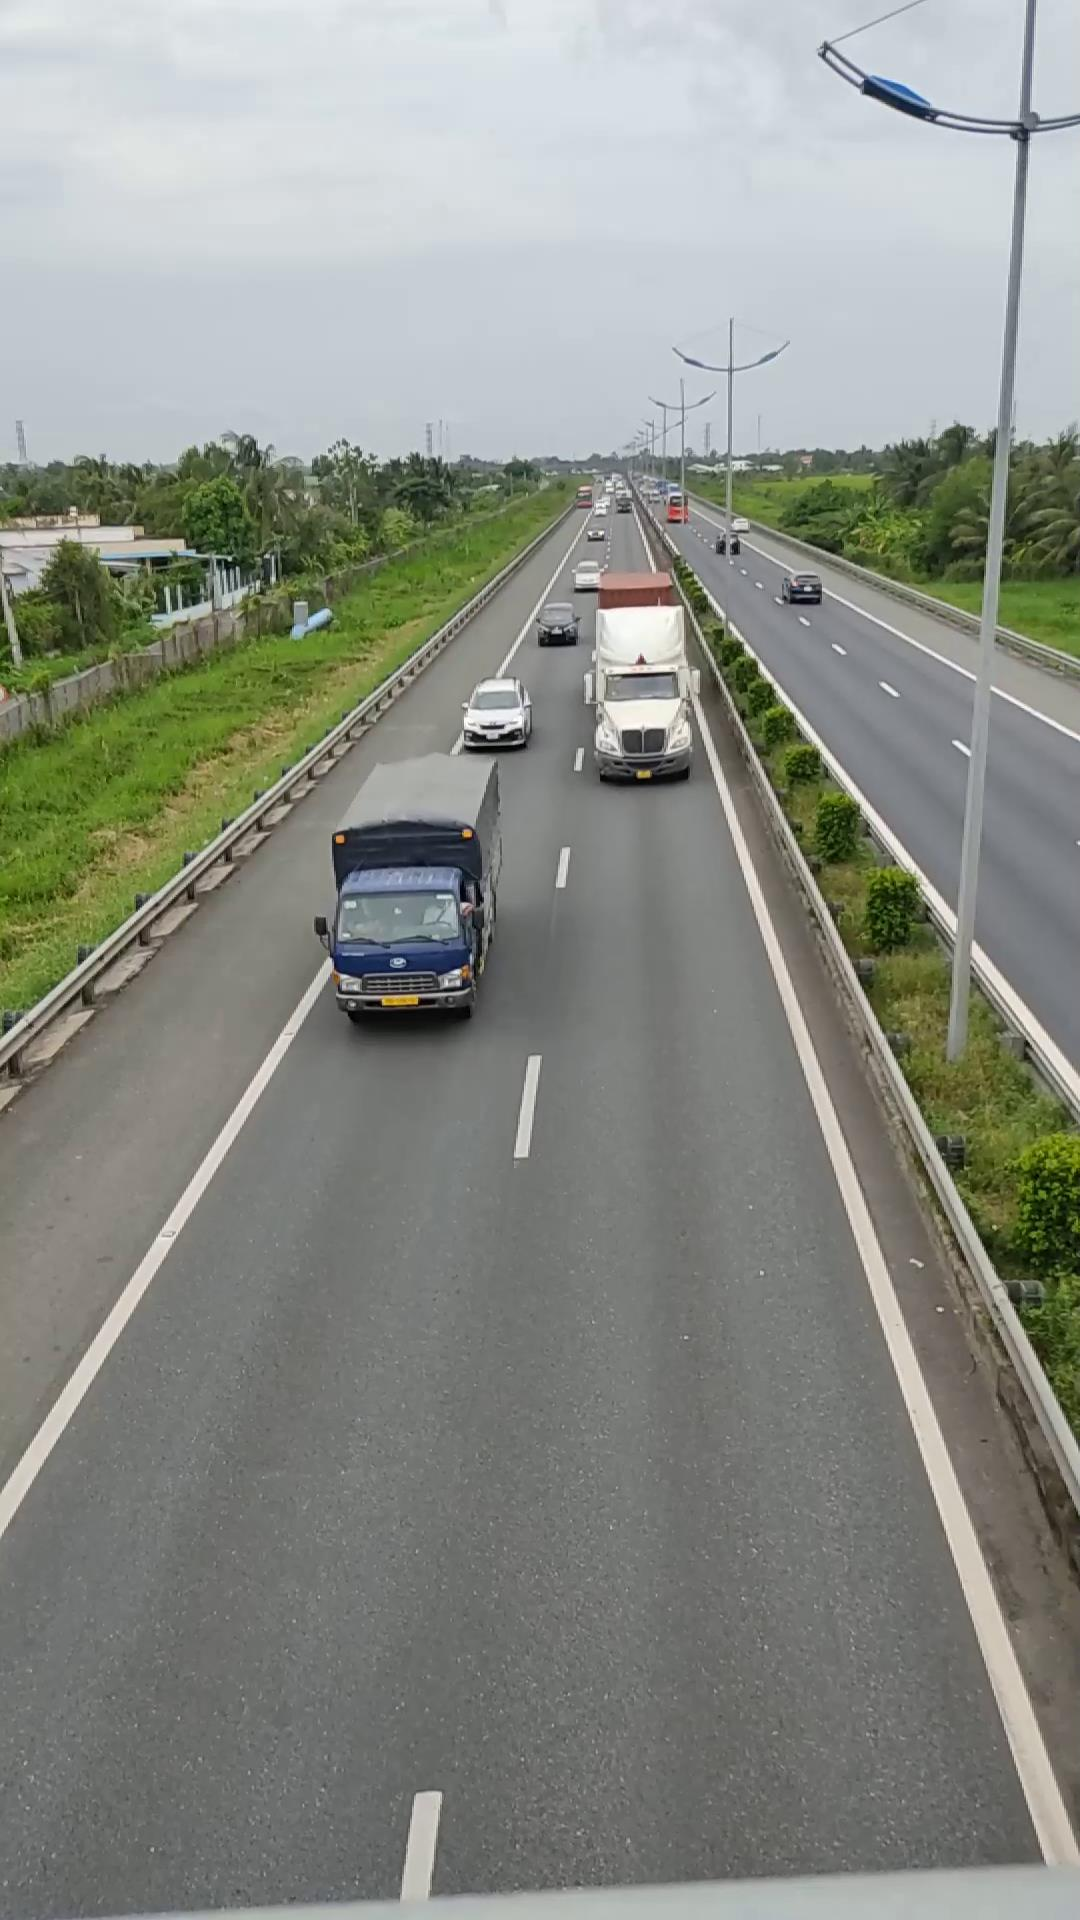car: (460, 676, 535, 749)
container: (583, 564, 698, 783)
truck: (320, 749, 505, 1023)
